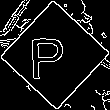P_N: (35, 29, 75, 81)
